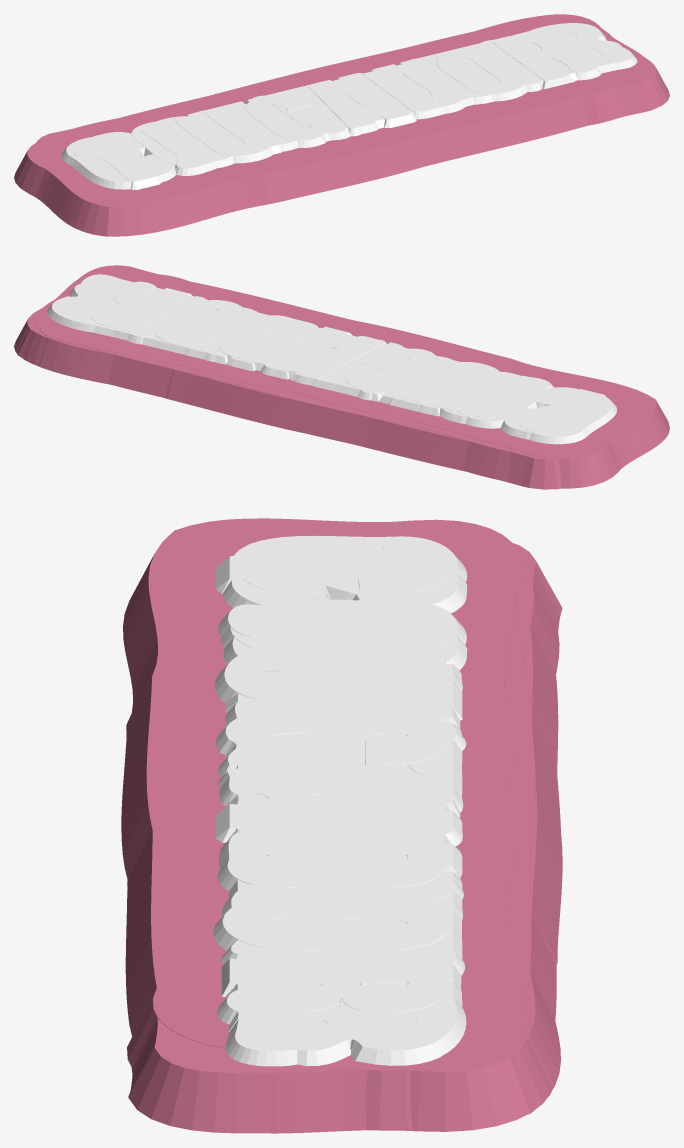
File: menu.fbx
3 views of the same model, one above another, from view 1: azimuth 30°, elevation 25°; view 2: azimuth 150°, elevation 25°; view 3: azimuth 270°, elevation 25° (orthographic). The views are drawn at different scales.
Parts seen in each view (by area): view 1: 1p, path3207, comenzar, 2p; view 2: 1p, path3207, 2p, comenzar; view 3: 1p, path3207, comenzar, 2p.
Part boxes in pixels (x1,y1,x2,y2): 1p: (14, 16, 627, 236); path3207: (56, 17, 669, 189); comenzar: (36, 14, 640, 182); 2p: (121, 14, 566, 158); 1p: (40, 273, 669, 488); path3207: (35, 265, 616, 481); 2p: (17, 328, 555, 470); comenzar: (14, 278, 579, 489); 1p: (121, 518, 528, 1067); path3207: (128, 535, 560, 1133); comenzar: (131, 543, 562, 1133); 2p: (325, 580, 562, 1116).
Size of the model in its own units: 1241 by 62.86 by 402.
